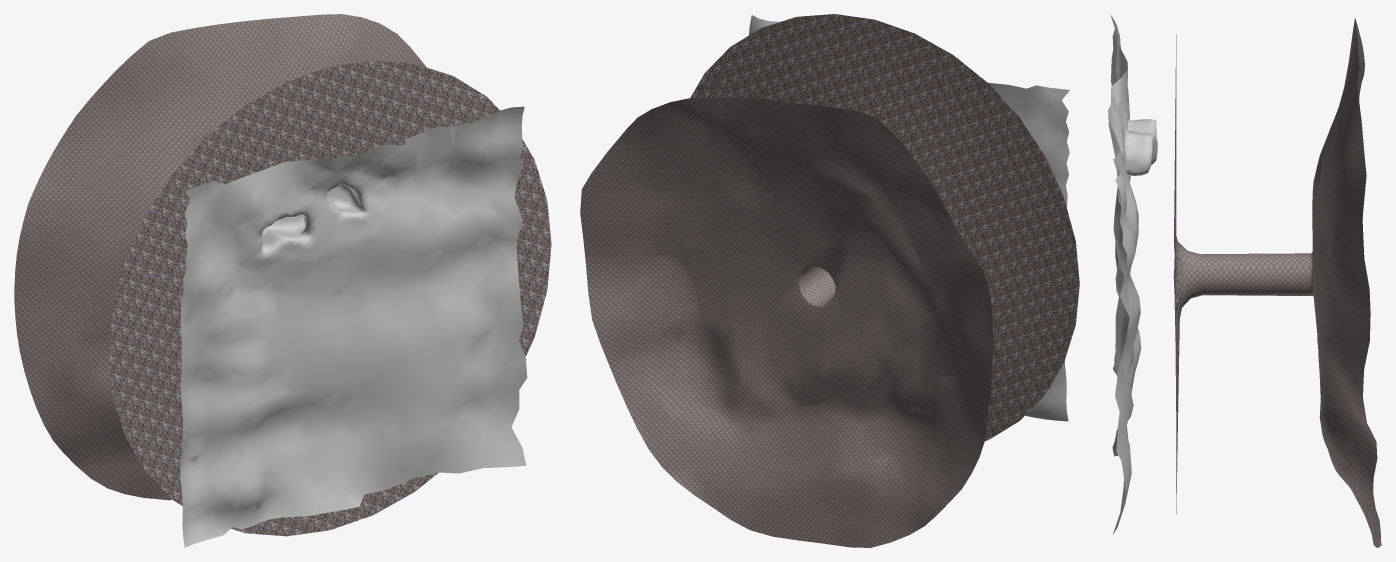
Rendered from ground2.dae.
3 views of the same model, side by side, from view 1: azimuth 30°, elevation 25°; view 2: azimuth 150°, elevation 25°; view 3: azimuth 270°, elevation 25° (orthographic). The views are drawn at different scales.
Parts seen in each view (by area): view 1: lower, upper; view 2: upper, lower; view 3: upper, lower.
Part boxes in pixels (x1,y1,x2,y2): lower: [180, 106, 527, 547]; upper: [14, 14, 551, 536]; upper: [580, 14, 1079, 547]; lower: [749, 15, 1069, 421]; upper: [1173, 18, 1381, 547]; lower: [1108, 14, 1157, 534].
Size of the model in its own units: 25.11 by 13.53 by 26.51.
